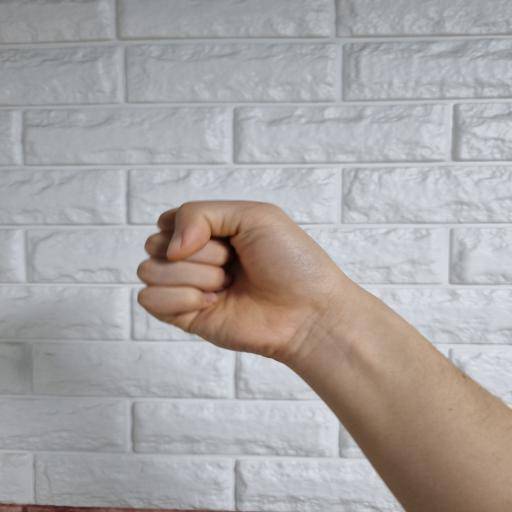Rock: (136, 201, 342, 360)
